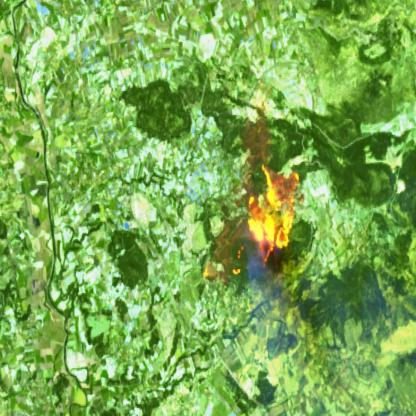fire: (238, 159, 306, 278)
